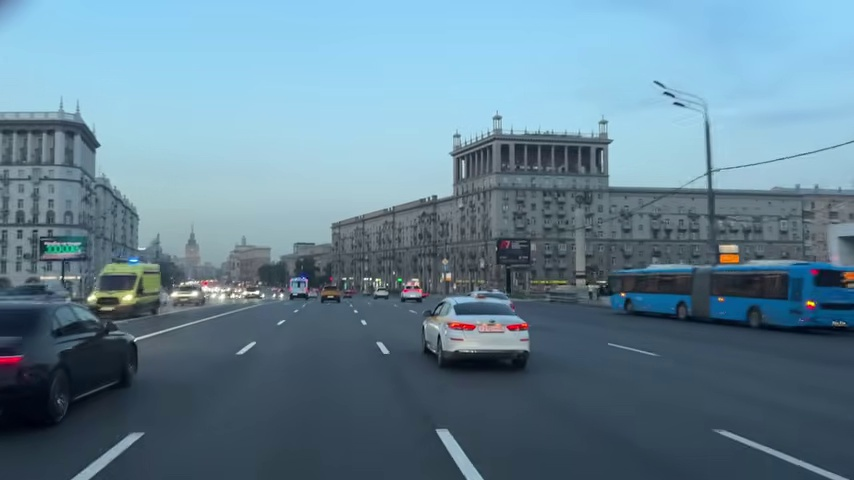apagada: (650, 77, 681, 109)
